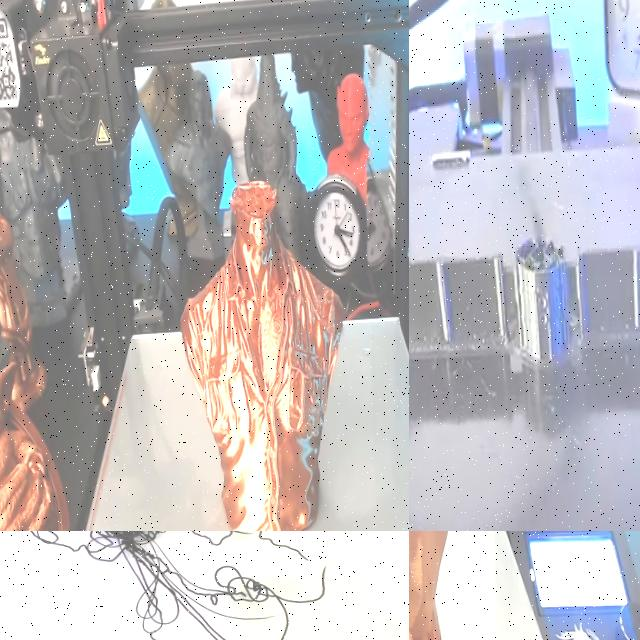spaghetti: (0, 531, 349, 640)
